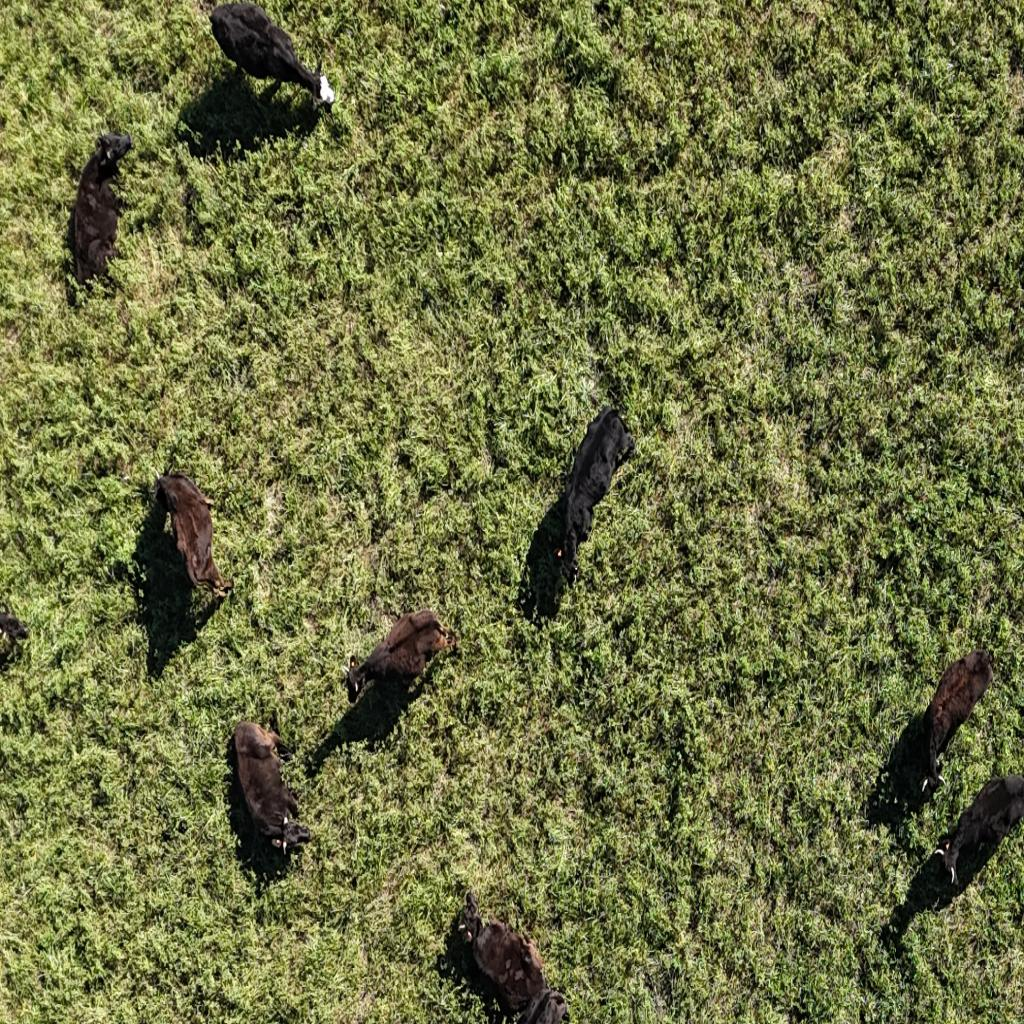cow: (532, 375, 657, 614), (196, 686, 332, 890), (895, 752, 1024, 959), (132, 456, 251, 661), (177, 0, 353, 131), (900, 621, 1018, 815), (61, 108, 165, 316), (332, 578, 457, 736), (434, 880, 551, 1016)
